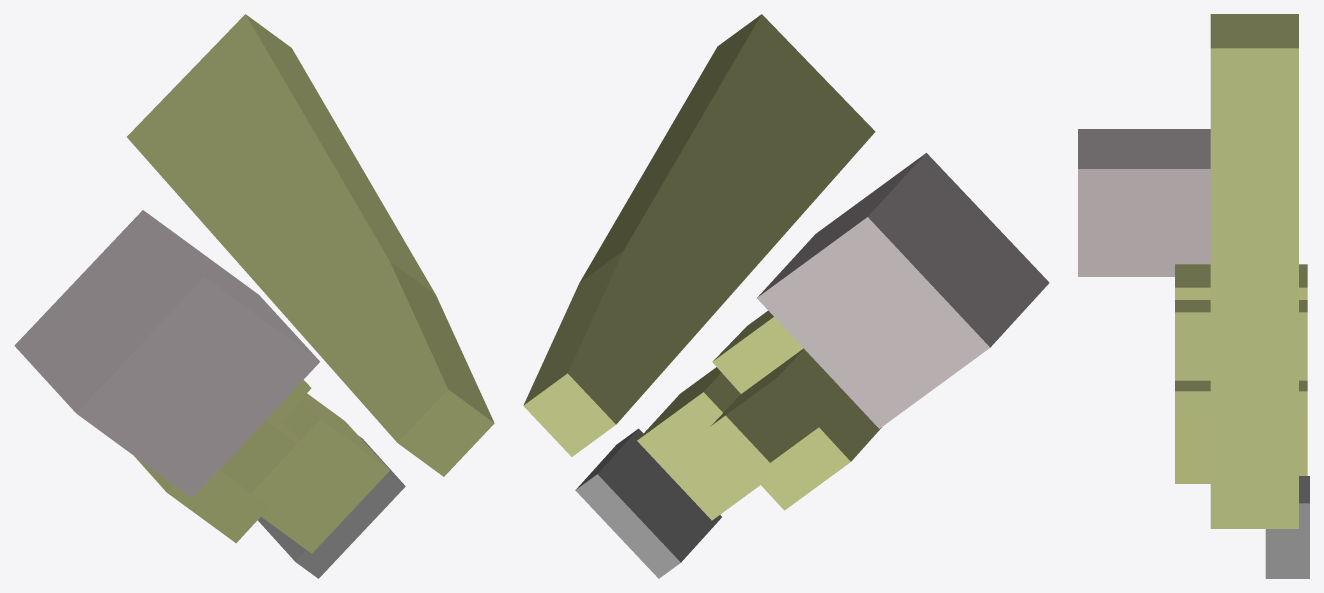
3 renders of one model, left to right at view 1: azimuth 30°, elevation 25°; view 2: azimuth 150°, elevation 25°; view 3: azimuth 270°, elevation 25°, orthographic. The views are drawn at different scales.
Parts seen in each view (by area): view 1: 0_2_0_1_1_1_1_1_0; view 2: 0_2_0_1_1_1_1_1_0; view 3: 0_2_0_1_1_1_1_1_0.
Part boxes in pixels (left/top/right/bottom): 0_2_0_1_1_1_1_1_0: left=14, top=14, right=494, bottom=578; 0_2_0_1_1_1_1_1_0: left=523, top=14, right=1049, bottom=578; 0_2_0_1_1_1_1_1_0: left=1078, top=14, right=1309, bottom=578.
Size of the model in its own units: 32.41 by 40.37 by 15.73.
